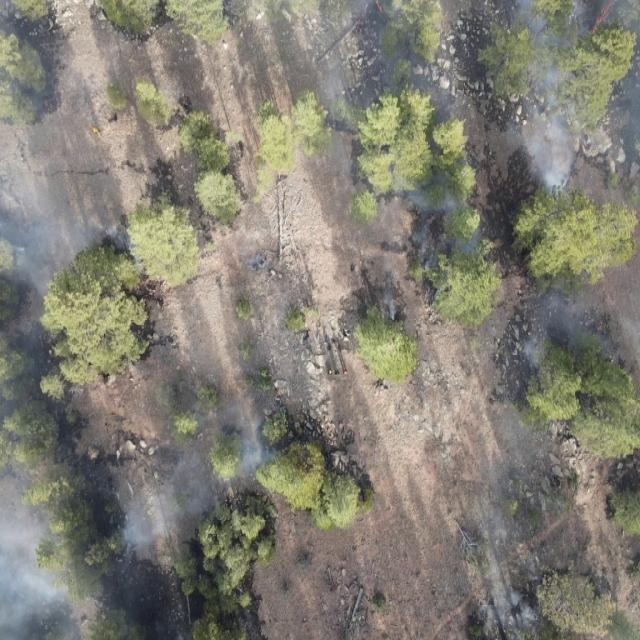fire: (592, 0, 616, 35), (277, 392, 282, 396)
smoke: (305, 0, 504, 274), (0, 0, 115, 282), (515, 0, 640, 215), (108, 409, 286, 549), (0, 449, 93, 639), (487, 286, 634, 396), (464, 502, 548, 640)
